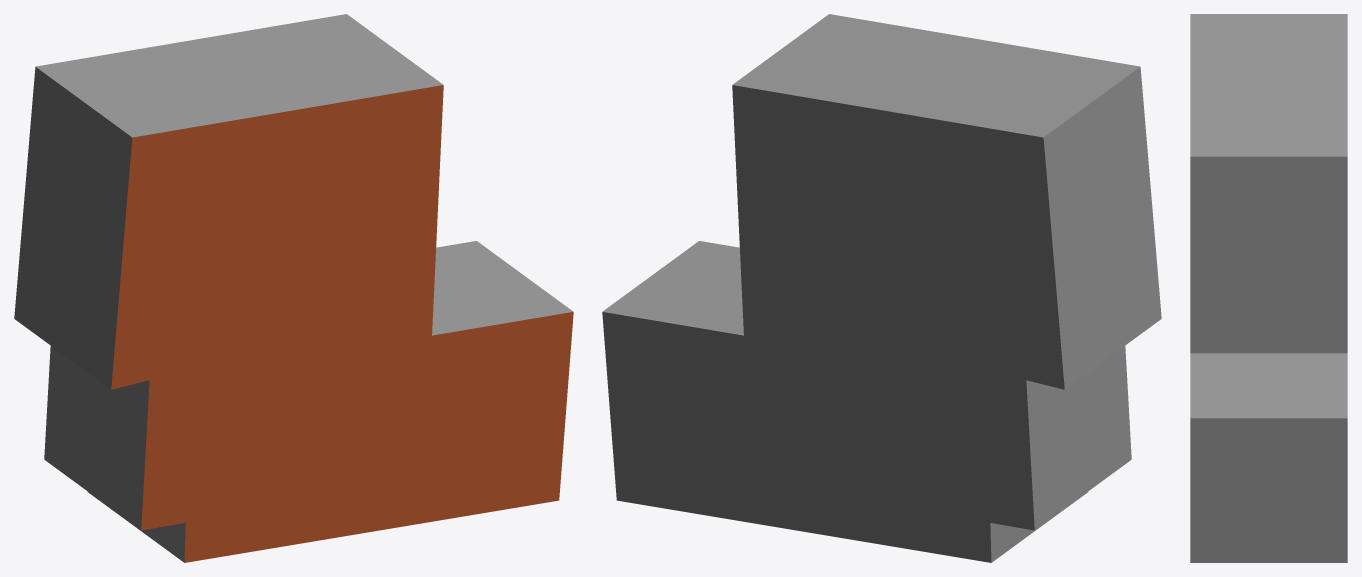
File: construction_4788_assumed_A_Casa_h6m.obj
3 views of the same model, side by side, from view 1: azimuth 30°, elevation 25°; view 2: azimuth 150°, elevation 25°; view 3: azimuth 270°, elevation 25° (orthographic). The views are drawn at different scales.
Visible parts, largest first — view 1: construction_4788_assumed_A_Casa; view 2: construction_4788_assumed_A_Casa; view 3: construction_4788_assumed_A_Casa.
Part boxes in pixels (bbox=[...]): construction_4788_assumed_A_Casa: bbox=[14, 14, 573, 562]; construction_4788_assumed_A_Casa: bbox=[602, 14, 1161, 562]; construction_4788_assumed_A_Casa: bbox=[1190, 14, 1347, 562].
Size of the model in its own units: 16.52 by 15.94 by 6.
